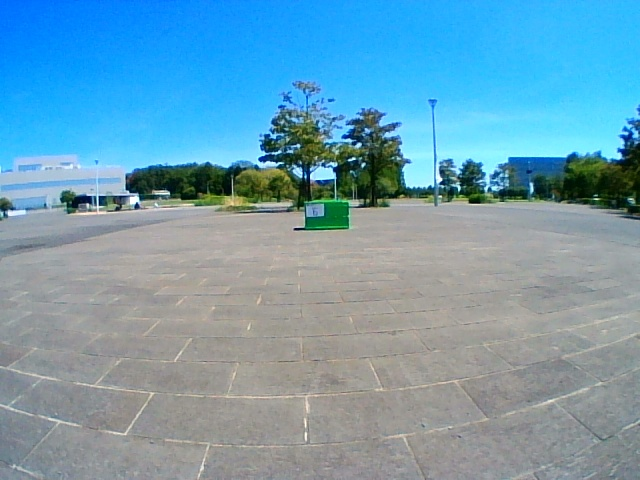green_box: (304, 199, 350, 229)
tag: (306, 204, 323, 216)
